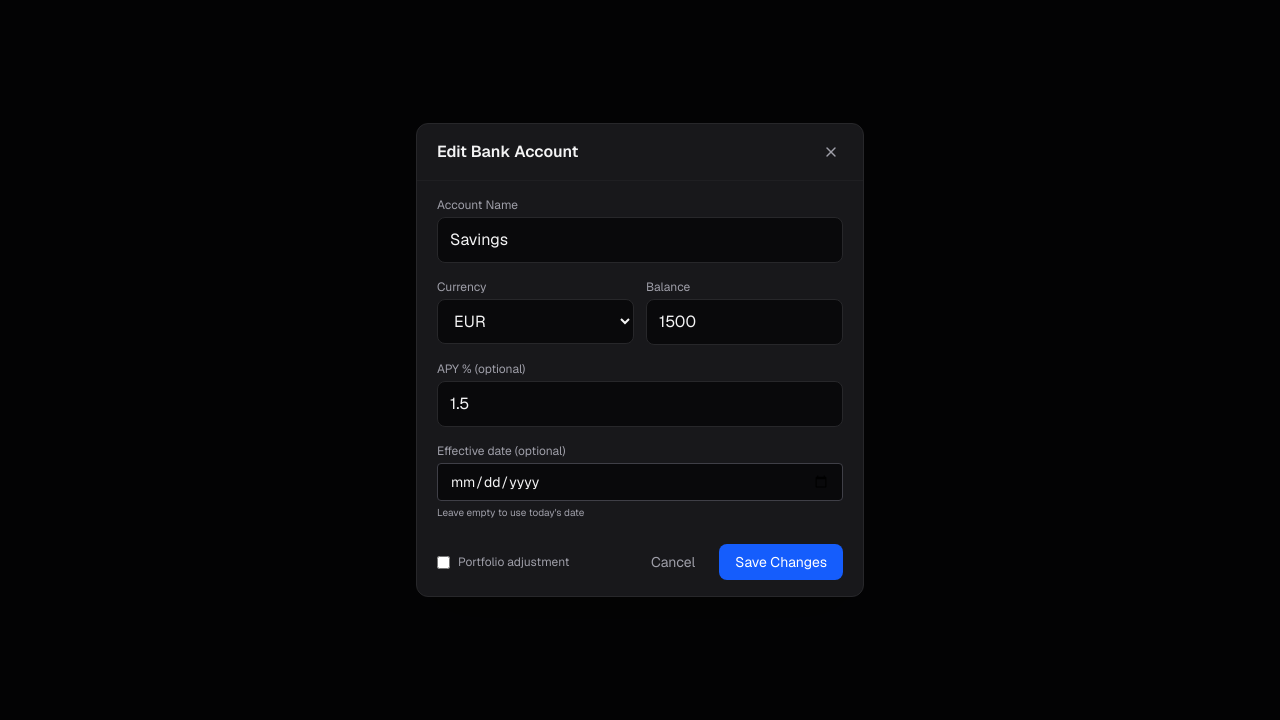
CashAccountModal — input validation › blocks save on edit when balance is cleared (empty string → NaN)
The image size is (1280, 720).
Clear the number field labelled "Balance": (744, 322) [646,299,843,345]
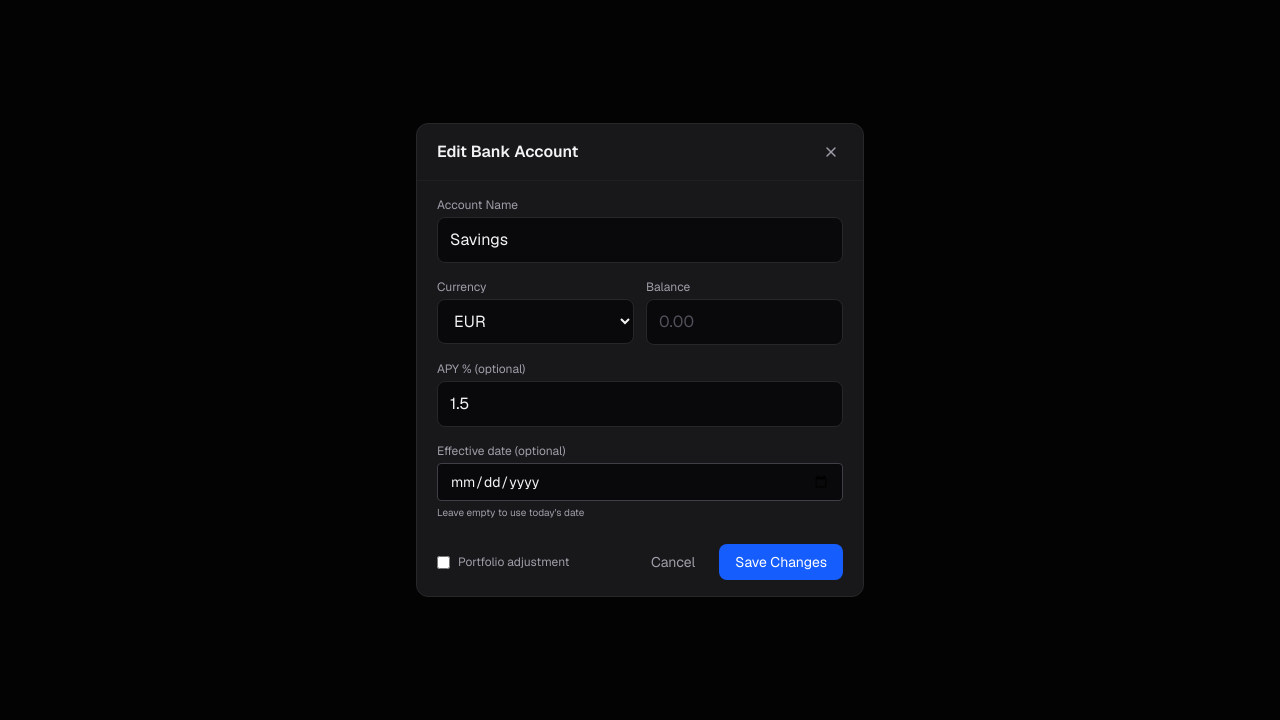
Submit the form, box [437,197,843,580]
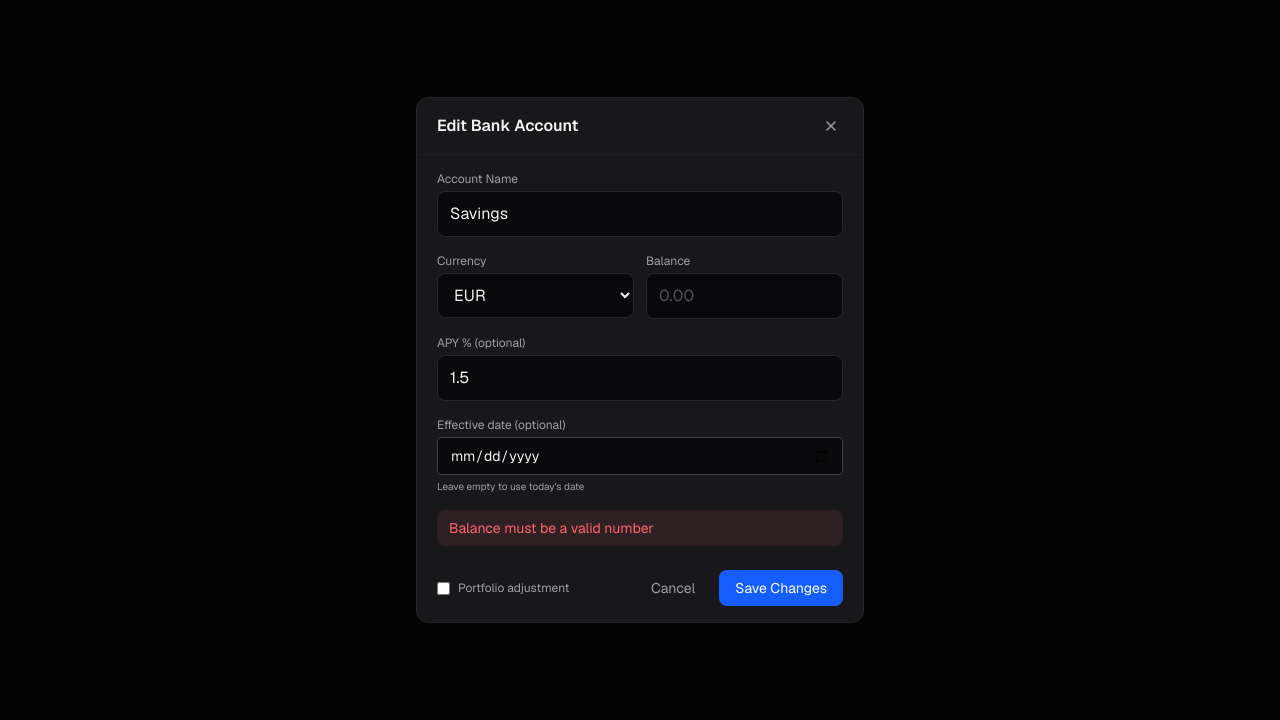
Expected: the message reads "Balance must be a valid number", [449,519,654,537]
